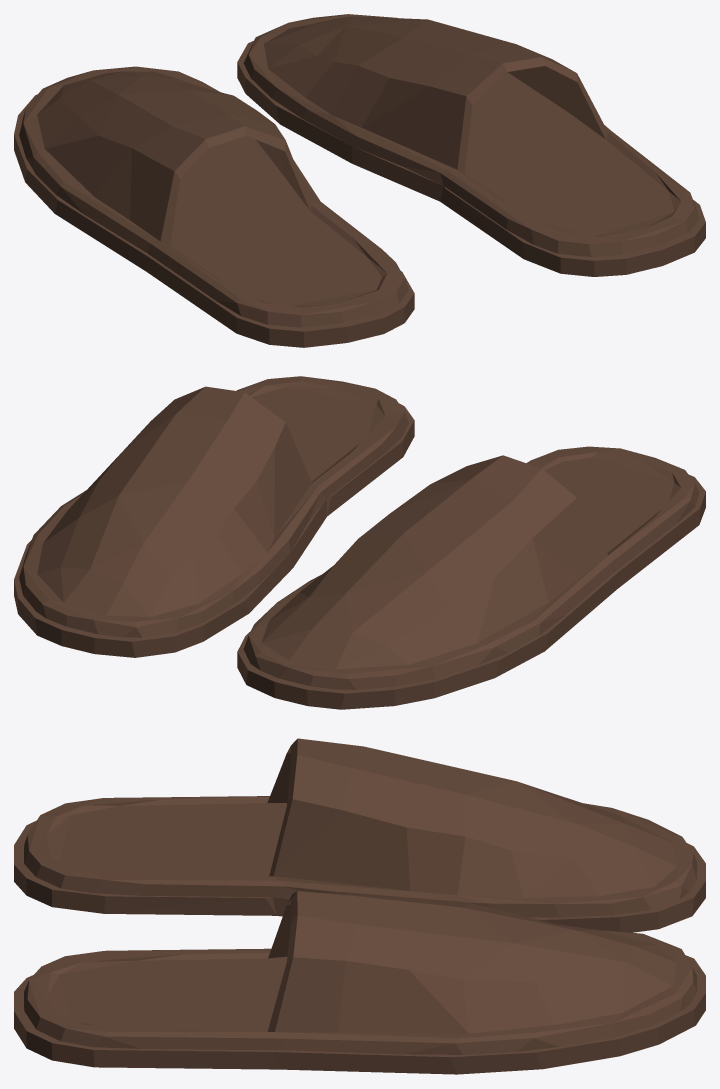
File: mpantofla-deksi.fbx
The picture shows the model from 3 angles, top to bottom: view 1: azimuth 30°, elevation 25°; view 2: azimuth 150°, elevation 25°; view 3: azimuth 270°, elevation 25°; orthographic projection. The views are drawn at different scales.
Visible parts, largest first — view 1: Plane.001_Plane.002, Plane; view 2: Plane, Plane.001_Plane.002; view 3: Plane.001_Plane.002, Plane.
Part boxes in pixels (x1,y1,x2,y2): Plane.001_Plane.002: (237, 14, 705, 276); Plane: (14, 66, 414, 347); Plane: (237, 446, 705, 709); Plane.001_Plane.002: (14, 376, 414, 657); Plane.001_Plane.002: (14, 891, 705, 1074); Plane: (14, 738, 705, 932).
Size of the model in its own units: 844 by 187 by 957.
